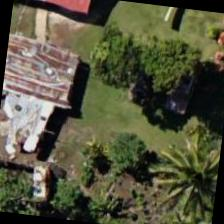Kelapa_Sawit: (141, 123, 222, 221)
